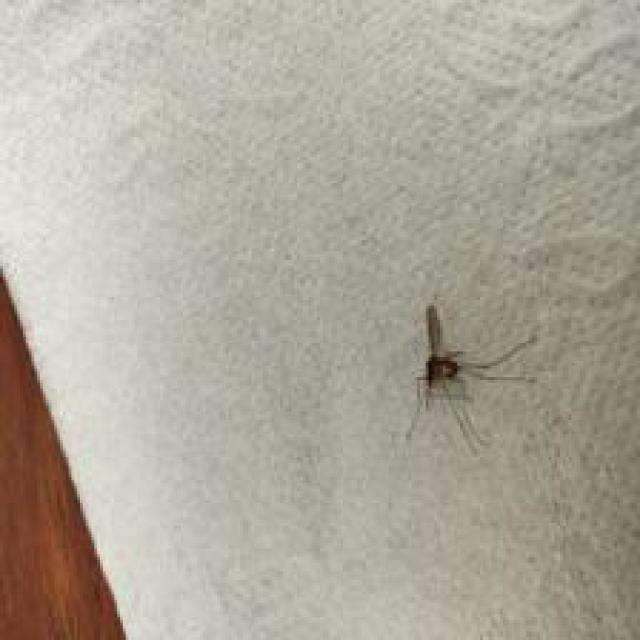Culex: (403, 301, 537, 456)
